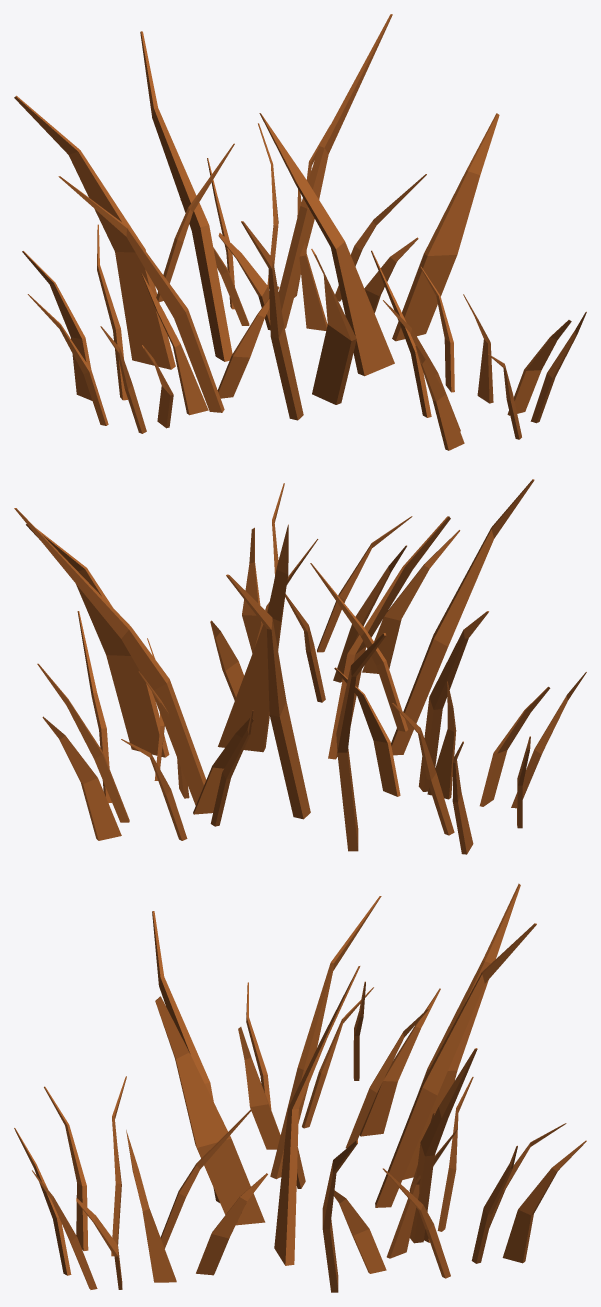
The model's file is grass3.fbx.
3 views of the same model, one above another, from view 1: azimuth 30°, elevation 25°; view 2: azimuth 150°, elevation 25°; view 3: azimuth 270°, elevation 25° (orthographic). The views are drawn at different scales.
Visible parts, largest first — view 1: Grass2; view 2: Grass2; view 3: Grass2.
Boxes of the visible parts, <box> form: Grass2: <box>14,14,586,450</box>; Grass2: <box>14,479,586,854</box>; Grass2: <box>14,883,586,1292</box>.
Size of the model in its own units: 75.01 by 42.25 by 79.06.
